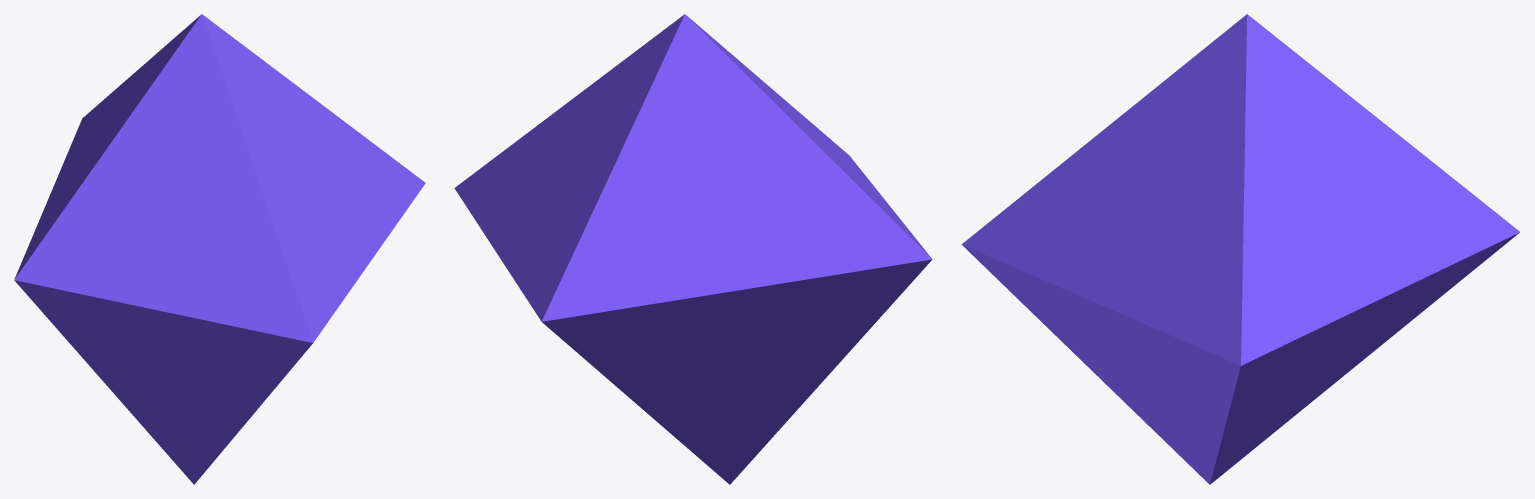
The model's file is fractured-core.glb.
3 views of the same model, side by side, from view 1: azimuth 30°, elevation 25°; view 2: azimuth 150°, elevation 25°; view 3: azimuth 270°, elevation 25° (orthographic). The views are drawn at different scales.
Parts seen in each view (by area): view 1: shard_04, shard_03, shard_08, shard_02; view 2: shard_02, shard_06, shard_01, shard_04; view 3: shard_03, shard_01, shard_07, shard_05.
Boxes of the visible parts, x1=… form: shard_04: x1=14, y1=14, x2=312, y2=342; shard_03: x1=202, y1=14, x2=425, y2=342; shard_08: x1=14, y1=280, x2=312, y2=484; shard_02: x1=14, y1=14, x2=201, y2=278; shard_02: x1=541, y1=14, x2=932, y2=321; shard_06: x1=542, y1=259, x2=932, y2=484; shard_01: x1=454, y1=14, x2=684, y2=321; shard_04: x1=687, y1=16, x2=931, y2=258; shard_03: x1=962, y1=14, x2=1247, y2=365; shard_01: x1=1241, y1=14, x2=1519, y2=365; shard_07: x1=962, y1=245, x2=1240, y2=484; shard_05: x1=1210, y1=232, x2=1519, y2=484.
Size of the model in its own units: 1.93 by 1.93 by 2.02.
